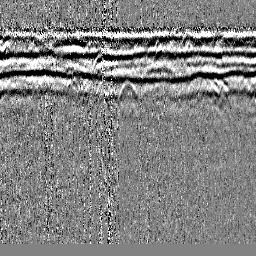cavity: (118, 79, 138, 101)
